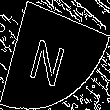N_N: (33, 24, 77, 86)
